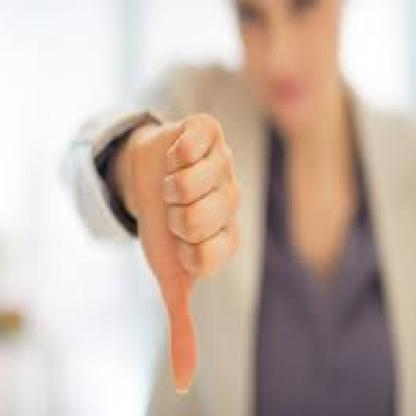thumb_down: (134, 110, 245, 399)
